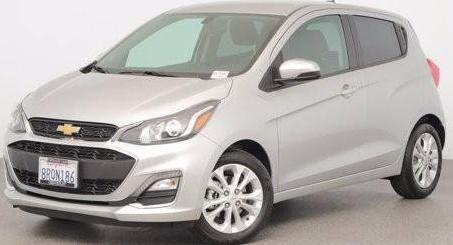Cars: (5, 5, 447, 244)
